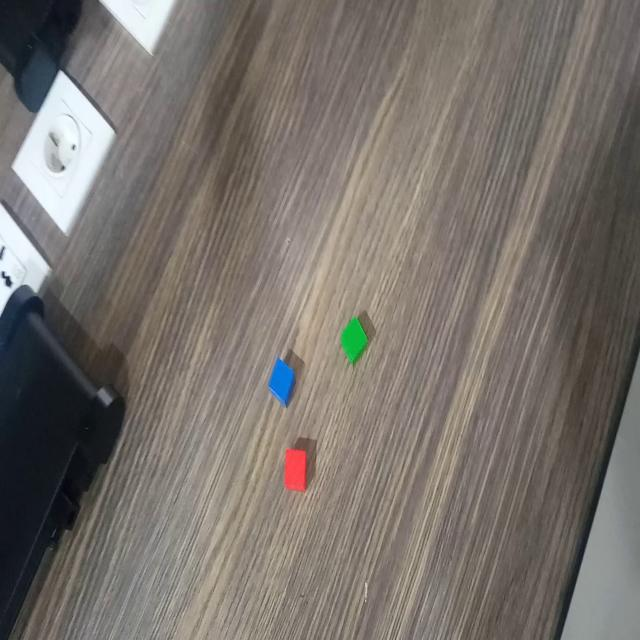cube: (336, 312, 370, 369), (267, 351, 296, 407), (283, 444, 309, 492)
